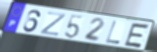2: (83, 18, 106, 44)
5: (63, 13, 84, 39)
6: (23, 9, 41, 33)
E: (122, 22, 151, 49)
L: (104, 20, 120, 45)
Z: (38, 11, 67, 37)
